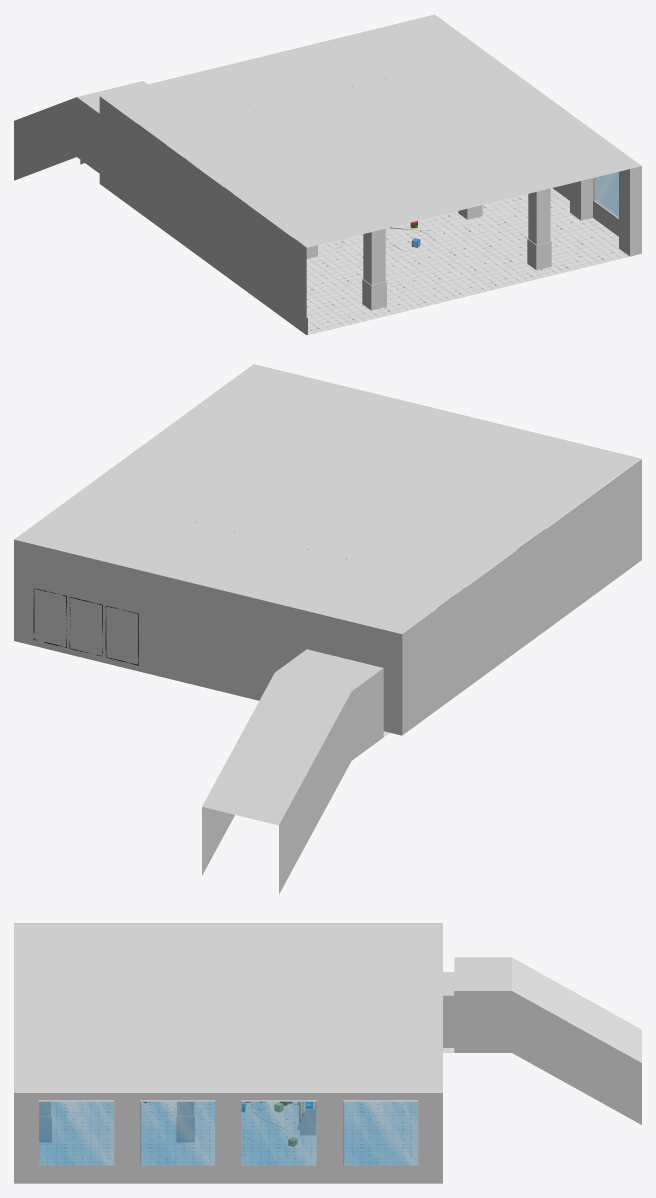
File: BG_special_01_fix_2.fbx
3 views of the same model, one above another, from view 1: azimuth 30°, elevation 25°; view 2: azimuth 150°, elevation 25°; view 3: azimuth 270°, elevation 25° (orthographic). The views are drawn at different scales.
Parts seen in each view (by area): view 1: Obj; view 2: Obj; view 3: Obj.
Boxes of the visible parts, x1,y1,x2,y2 form: Obj: [14, 14, 641, 335]; Obj: [14, 364, 641, 893]; Obj: [14, 923, 641, 1183].
Bounding box in the file's own units: 1410 × 632 × 2196.
